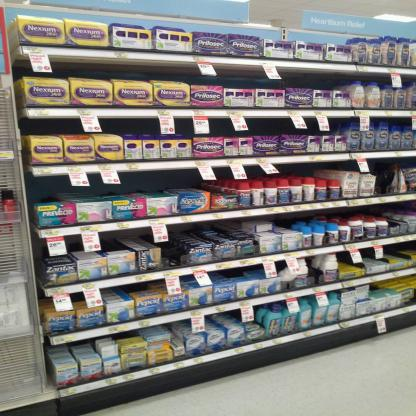Void: (35, 179, 200, 195), (165, 225, 187, 267), (378, 160, 392, 194)
